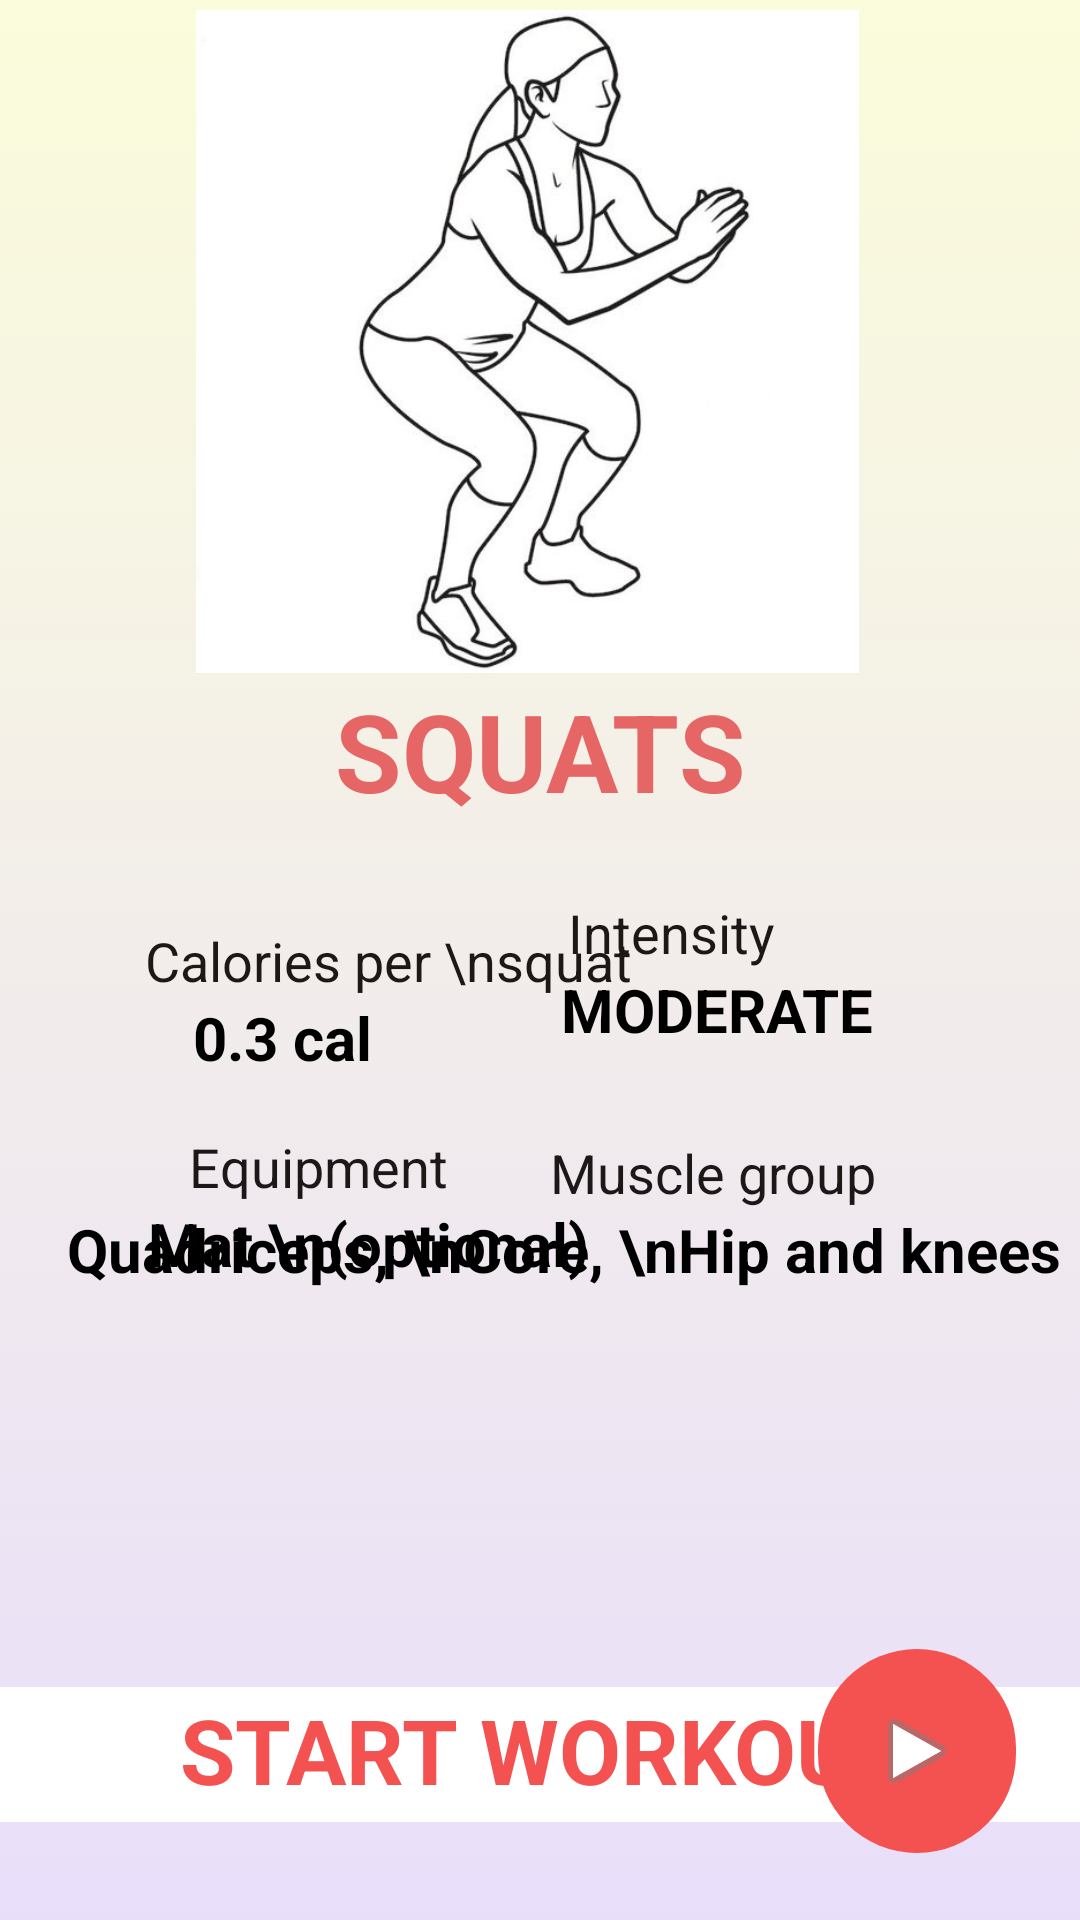

Icon click points for this 1080px x 1920px phone screenshot, format (x,y):
play: (917,1751)
